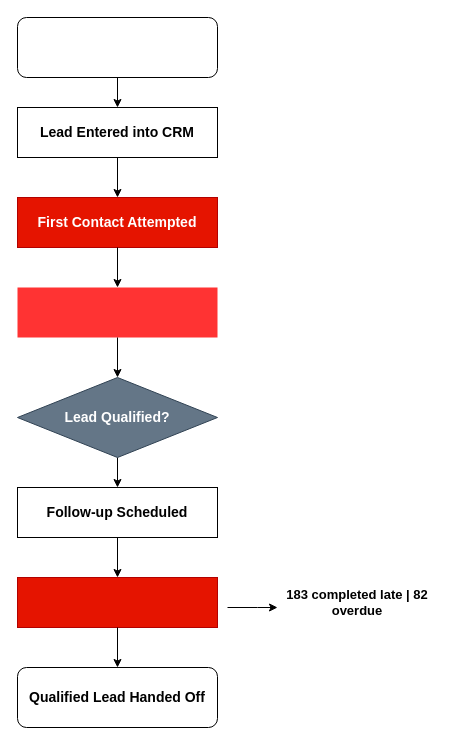
The diagram is 455 pixels wide and 753 high, and some of its shapes have lost their labels. Each missing label, with the centre of its shape:
"Follow-up Completed" goes at (117,602).
"Lead Captured" goes at (117,47).
"Lead Qualification" goes at (117,312).
